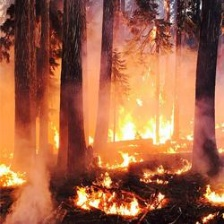fire: (103, 99, 187, 147), (74, 178, 171, 217), (1, 156, 27, 190), (100, 152, 138, 169), (204, 185, 224, 205)
